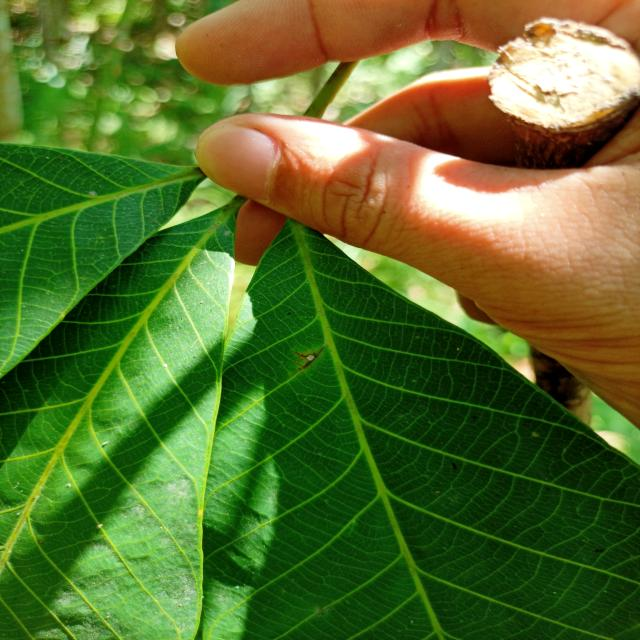Corynespora: (297, 351, 306, 360)
Leaf-Blight: (306, 354, 314, 361)
